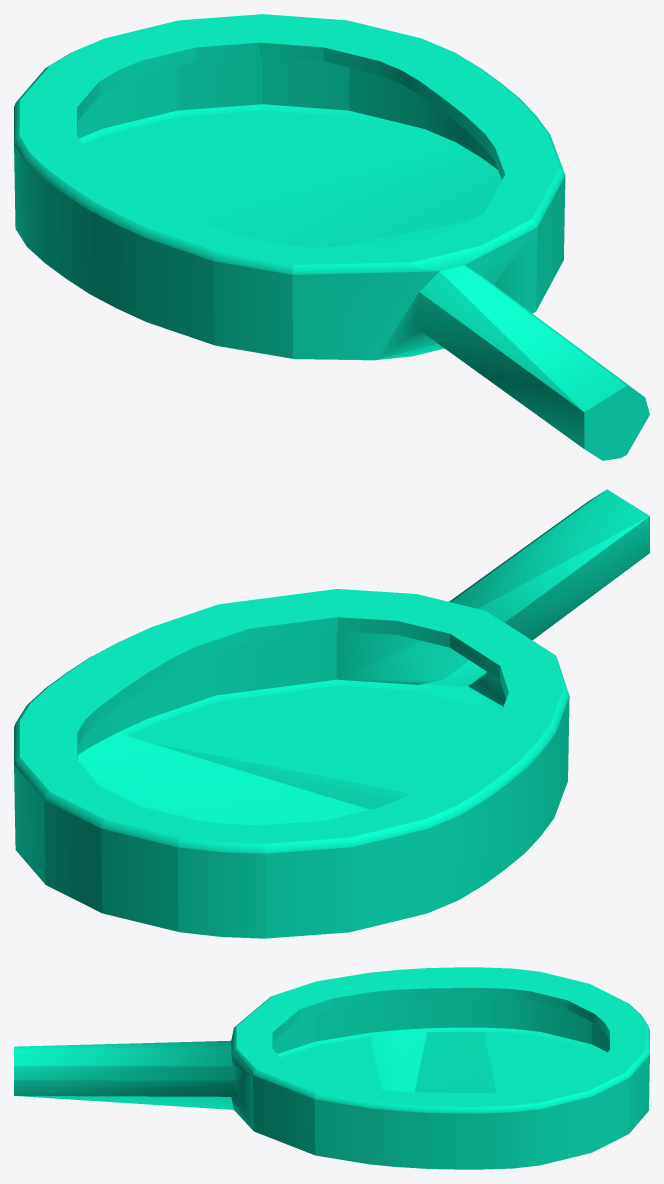
File: mirror_edit.fbx
3 views of the same model, one above another, from view 1: azimuth 30°, elevation 25°; view 2: azimuth 150°, elevation 25°; view 3: azimuth 270°, elevation 25° (orthographic). The views are drawn at different scales.
Parts seen in each view (by area): view 1: Mirror; view 2: Mirror; view 3: Mirror.
Part boxes in pixels (x1,y1,x2,y2): Mirror: [14, 14, 649, 460]; Mirror: [14, 489, 649, 938]; Mirror: [14, 967, 649, 1169].
Bounding box in the file's own units: 240 × 49.82 × 452.
